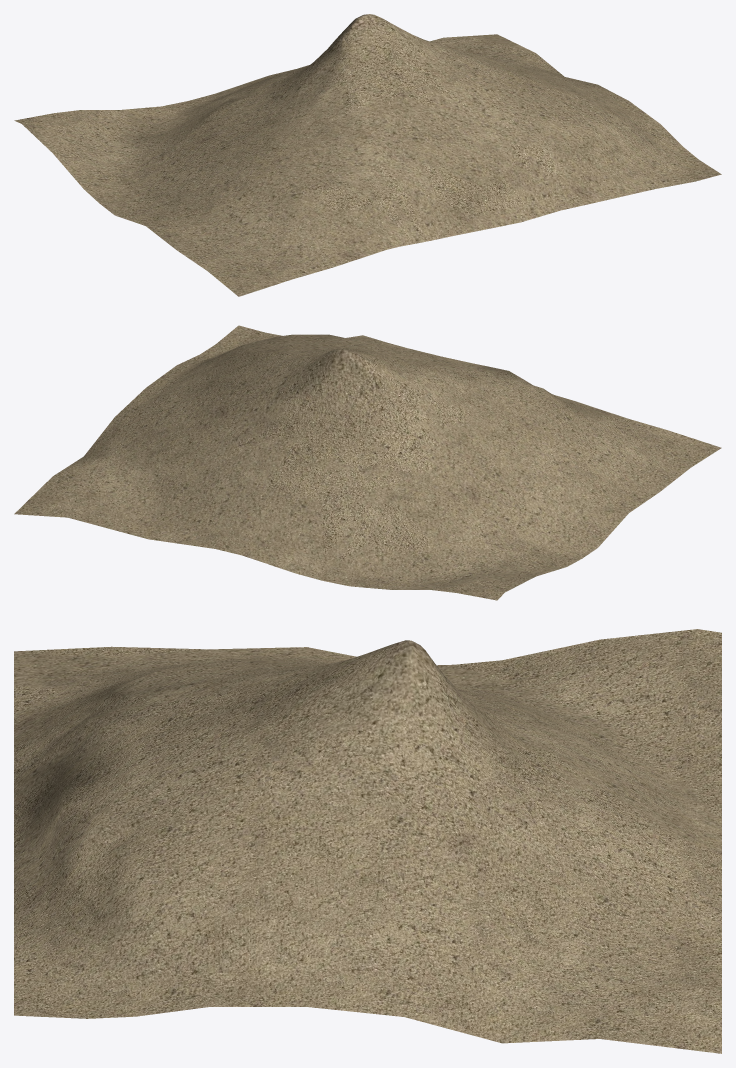
File: tw2_5_dun_addon_01_27-transformed.glb
3 views of the same model, one above another, from view 1: azimuth 30°, elevation 25°; view 2: azimuth 150°, elevation 25°; view 3: azimuth 270°, elevation 25° (orthographic). The views are drawn at different scales.
Parts seen in each view (by area): view 1: 5_DUN_ADDONS_01_27; view 2: 5_DUN_ADDONS_01_27; view 3: 5_DUN_ADDONS_01_27.
Part boxes in pixels (left/top/right/bottom): 5_DUN_ADDONS_01_27: left=14, top=14, right=721, bottom=296; 5_DUN_ADDONS_01_27: left=14, top=325, right=721, bottom=600; 5_DUN_ADDONS_01_27: left=14, top=629, right=721, bottom=1053.
Bounding box in the file's own units: 9 × 2.63 × 7.25.
1 material, 1 textured.
